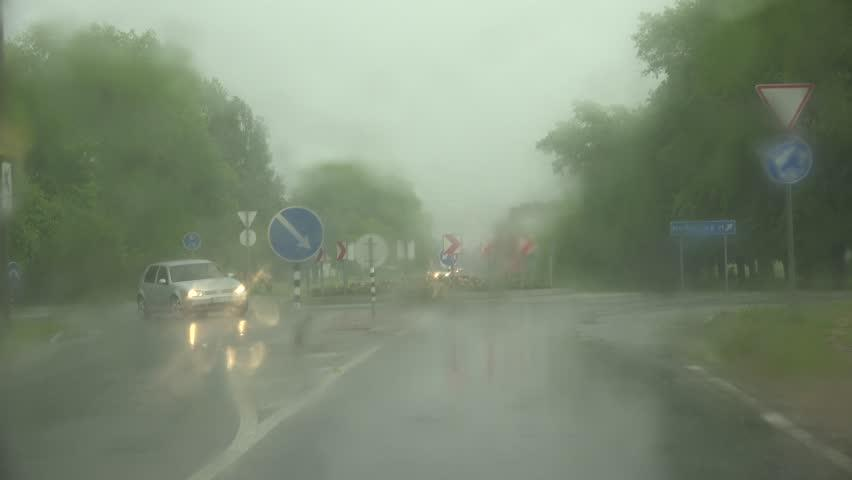car: (136, 258, 248, 323)
